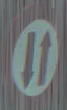Two way: (8, 8, 58, 94)
